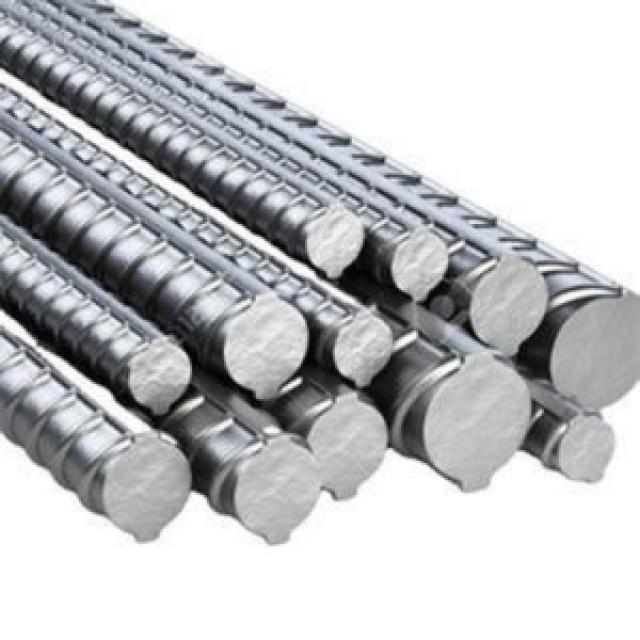Rebar: (423, 358, 533, 496), (97, 436, 200, 543), (555, 278, 638, 407), (307, 391, 393, 507), (232, 437, 319, 547), (223, 284, 305, 399), (471, 254, 543, 358), (126, 339, 194, 415), (336, 305, 396, 386), (555, 414, 613, 496), (307, 199, 368, 273), (392, 225, 447, 301)
